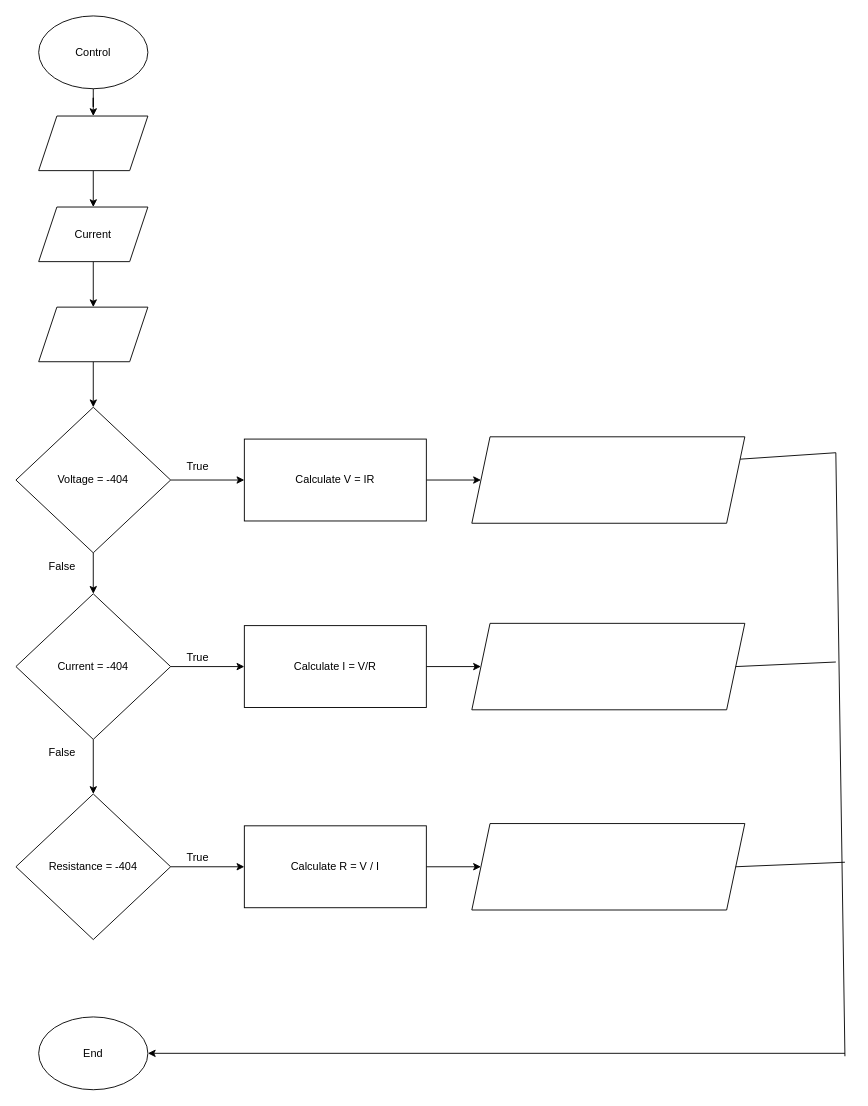
The diagram is 868 pixels wide and 1106 high, and some of its shapes have lost their labels. Here are the shapes that lost their labels. From the top down, the box of each, then its label:
(38, 115, 148, 171): Voltage
(38, 306, 148, 362): Resistance
(471, 436, 745, 523): print V, Voltage
(471, 622, 745, 710): print I, Current
(471, 823, 745, 910): print R, resistance
